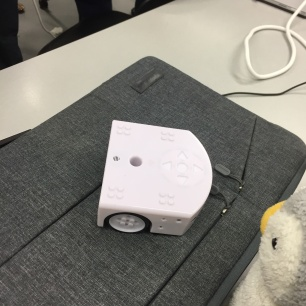thymio: (85, 117, 218, 234)
